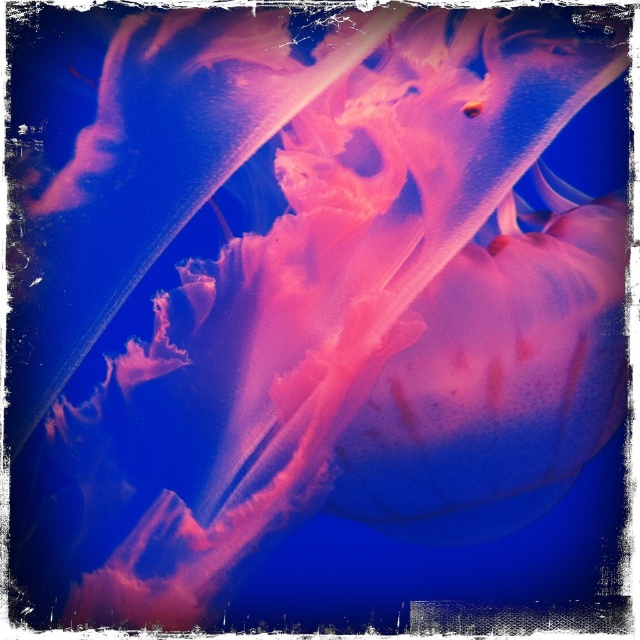Jellyfish: (10, 4, 630, 634)
